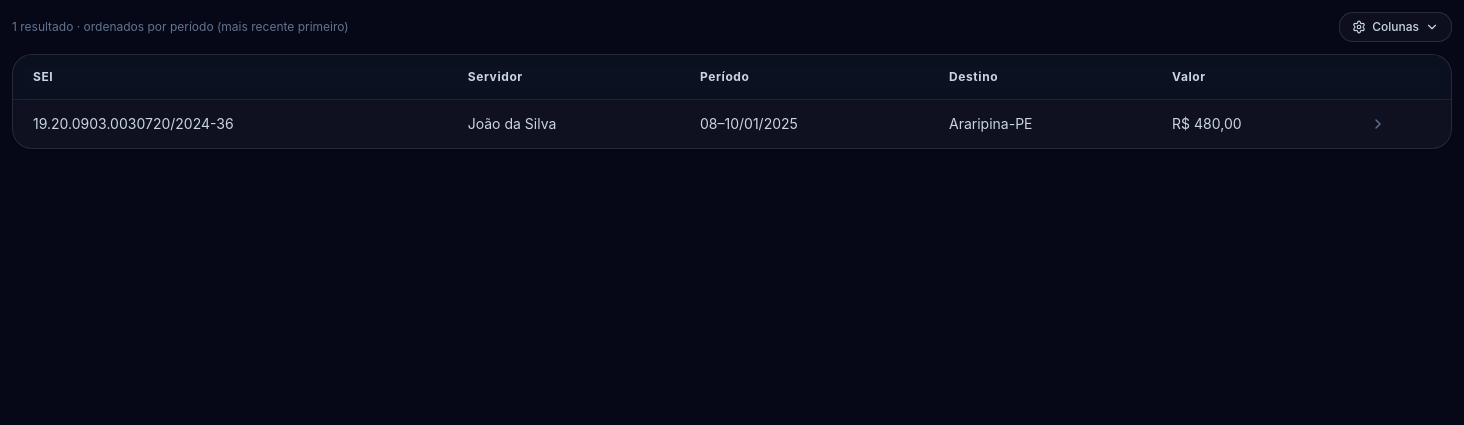
Scenario: TabelaDiarias › colunas novas: CPF mascarado, Origem, Situação, Doc. origem, Transporte, Trecho (Sprint 19.5.7.1) › ativar 'CPF (mascarado)' mostra exatamente o valor de cpf_mascarado, sem nenhum mascaramento adicional no cliente
Click the button "Colunas": {"x": 1396, "y": 27} [1339,12,1452,42]
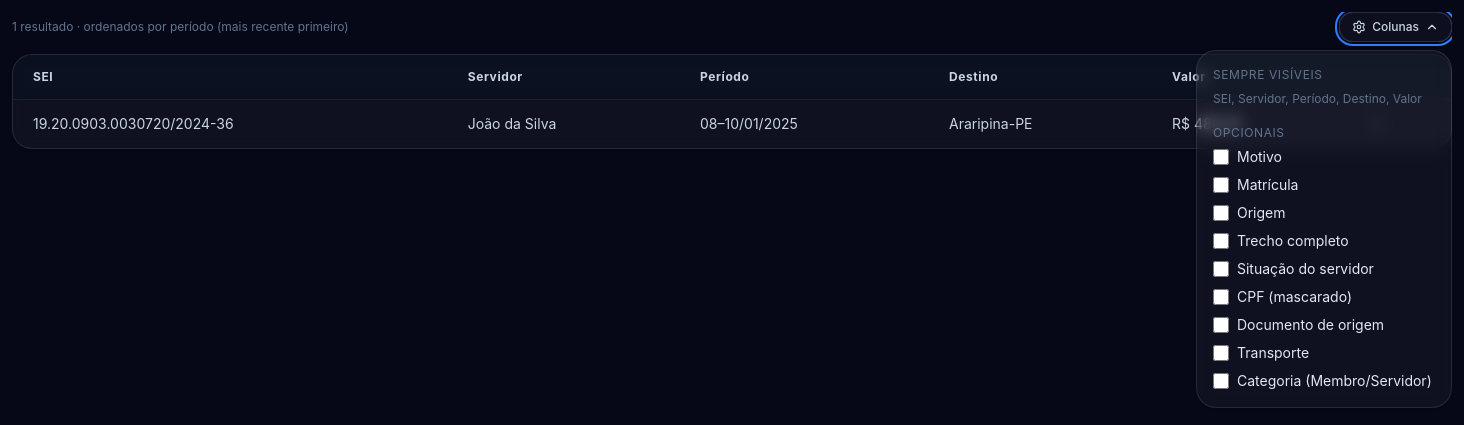
Click the checkbox labelled "CPF (mascarado)": {"x": 1221, "y": 296} [1213,288,1229,304]
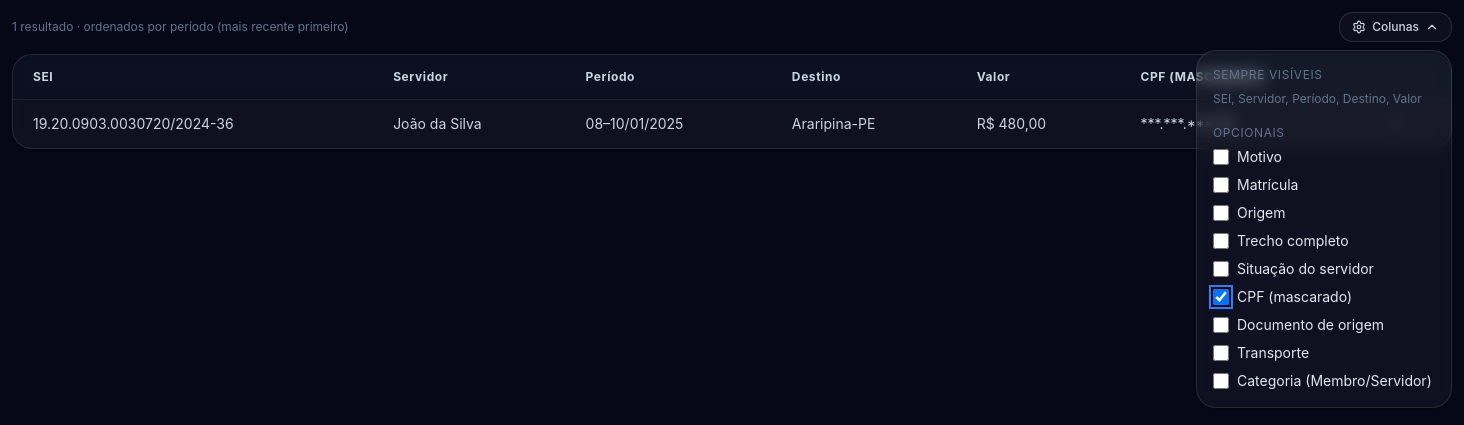
Result: the column heading "CPF (mascarado)" is shown at [1120,55,1367,100]
Result: the text "***.***.***-11" is shown at [1120,100,1367,148]
